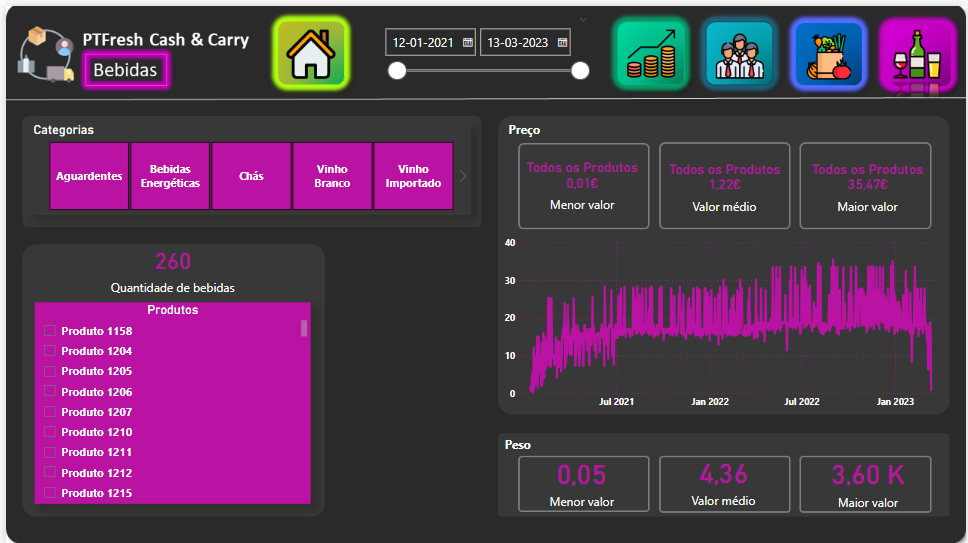

Layout of this report page (visuals, bound fields, positions):
{"tool":"powerbi","page":{"name":"Bebidas","canvas":[1280,720],"ordinal":4},"visuals":[{"type":"image","box":[823.8,27.4,73.8,73.8],"z":0},{"type":"image","box":[941.7,29.8,73.8,73.8],"z":1000},{"type":"image","box":[1060.7,31,73.8,71.4],"z":2000},{"type":"image","box":[365.5,26.2,83.3,75],"z":3000},{"type":"slicer","title":"Categorias","fields":{"Values":["Bebidas.Categoria Produto"]},"box":[31.6,155.1,588.7,123.5],"z":4000},{"type":"lineChart","title":"Evolução do Preço Unitário","fields":{"Y":["Medidas.Evolucao de preco do produto"],"Category":["Datas.Data Venda.Variação.Hierarquia de Datas.Ano"]},"box":[660.7,301.9,603.8,244.9],"z":5000},{"type":"card","title":"Peso","fields":{"Values":["Medidas.ValorMinPeso"]},"box":[661.9,579.5,212.2,104.3],"z":6000},{"type":"card","title":"Preço Unitário Mínimo","fields":{"Values":["Medidas.MediaPeso"]},"box":[843.8,578.3,226.7,105.5],"z":7000},{"type":"card","title":"Preço Unitário Mínimo","fields":{"Values":["Medidas.ValorMaxPeso"]},"box":[1036.6,579.5,225.5,105.5],"z":8000},{"type":"card","title":"Preço ","fields":{"Values":["Medidas.ValorMinProduto"]},"box":[670.4,180.6,196.4,112.7],"z":9000},{"type":"card","title":"Preço Unitário Mínimo","fields":{"Values":["Medidas.MediaPreco"]},"box":[848.6,185.5,219.4,106.7],"z":10000},{"type":"card","title":"Preço Unitário Mínimo","fields":{"Values":["Medidas.ValorMaxProduto"]},"box":[1031.7,185.5,234,106.7],"z":11000},{"type":"slicer","title":"Produtos","fields":{"Values":["Bebidas.Nome Produto"]},"box":[37.9,395.8,368.3,268.5],"z":12000},{"type":"card","title":"Preço Unitário Mínimo","fields":{"Values":["Medidas.Quantidade de bebidas"]},"box":[37.9,309.8,368.3,79.2],"z":13000},{"type":"textbox","box":[664.4,149.1,84.9,33.9],"z":14000},{"type":"textbox","box":[660.7,568.6,84.9,33.9],"z":15000},{"type":"slicer","fields":{"Values":["Datas_venda.Data Venda"]},"box":[492.6,12.3,293.7,102.9],"z":16000}]}

Visuals, with their boxes in screenshot pixels (x1, y1, x2, y2), scaled from the page's 1280x720 canvas onto the 968x543 screenshot:
image: [623, 21, 679, 76]
image: [712, 22, 768, 78]
image: [802, 23, 858, 77]
image: [276, 20, 339, 76]
"Categorias" slicer: [24, 117, 469, 210]
"Evolução do Preço Unitário" lineChart: [500, 228, 956, 412]
"Peso" card: [501, 437, 661, 516]
"Preço Unitário Mínimo" card: [638, 436, 810, 516]
"Preço Unitário Mínimo" card: [784, 437, 954, 517]
"Preço " card: [507, 136, 656, 221]
"Preço Unitário Mínimo" card: [642, 140, 808, 220]
"Preço Unitário Mínimo" card: [780, 140, 957, 220]
"Produtos" slicer: [29, 298, 307, 501]
"Preço Unitário Mínimo" card: [29, 234, 307, 293]
textbox: [502, 112, 567, 138]
textbox: [500, 429, 564, 454]
slicer - Datas_venda.Data Venda: [373, 9, 595, 87]
